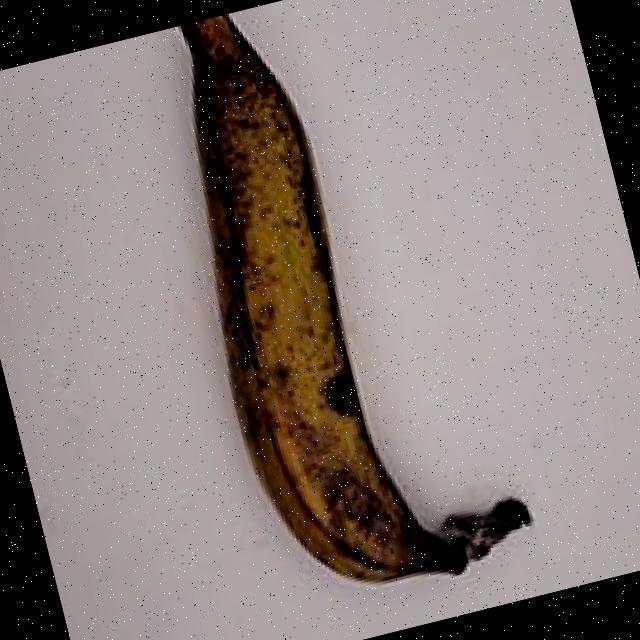Overripe: (88, 0, 557, 636)
